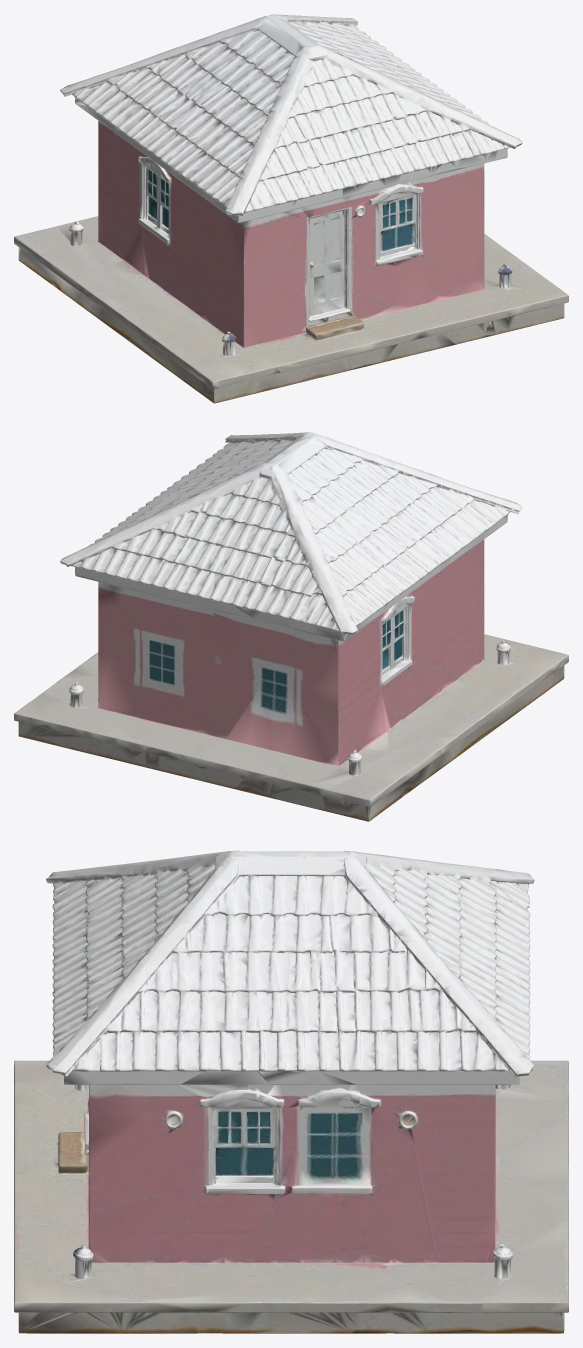
File: bermuda-house-a.glb
3 views of the same model, one above another, from view 1: azimuth 30°, elevation 25°; view 2: azimuth 150°, elevation 25°; view 3: azimuth 270°, elevation 25° (orthographic). The views are drawn at different scales.
Bounding box in the file's own units: 1.9 × 1.32 × 1.84.
Materials: 1 (1 with a texture image).
